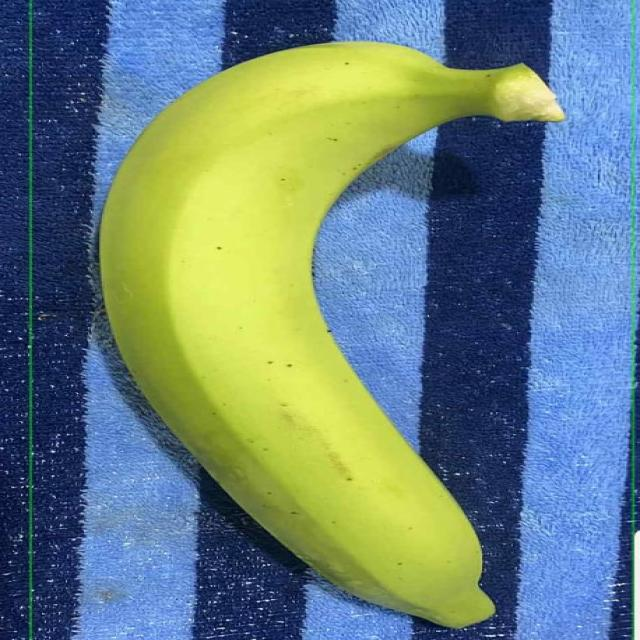unripe: (88, 30, 594, 628)
